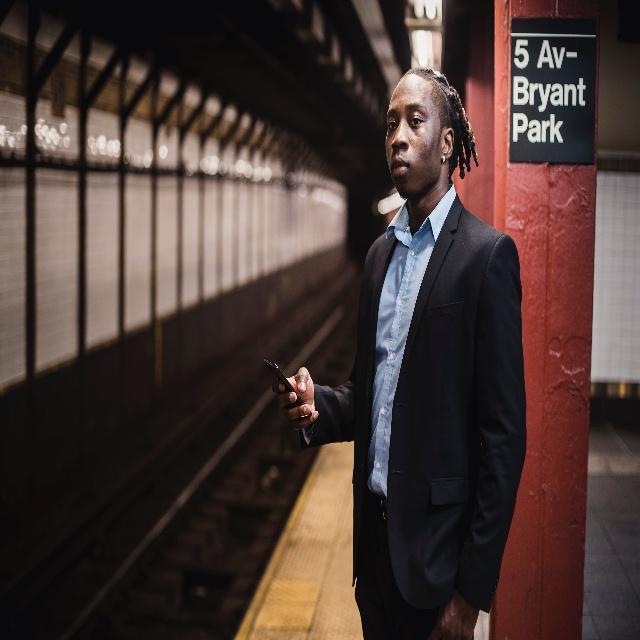Sin_guantes: (270, 368, 320, 432), (426, 583, 481, 640)
